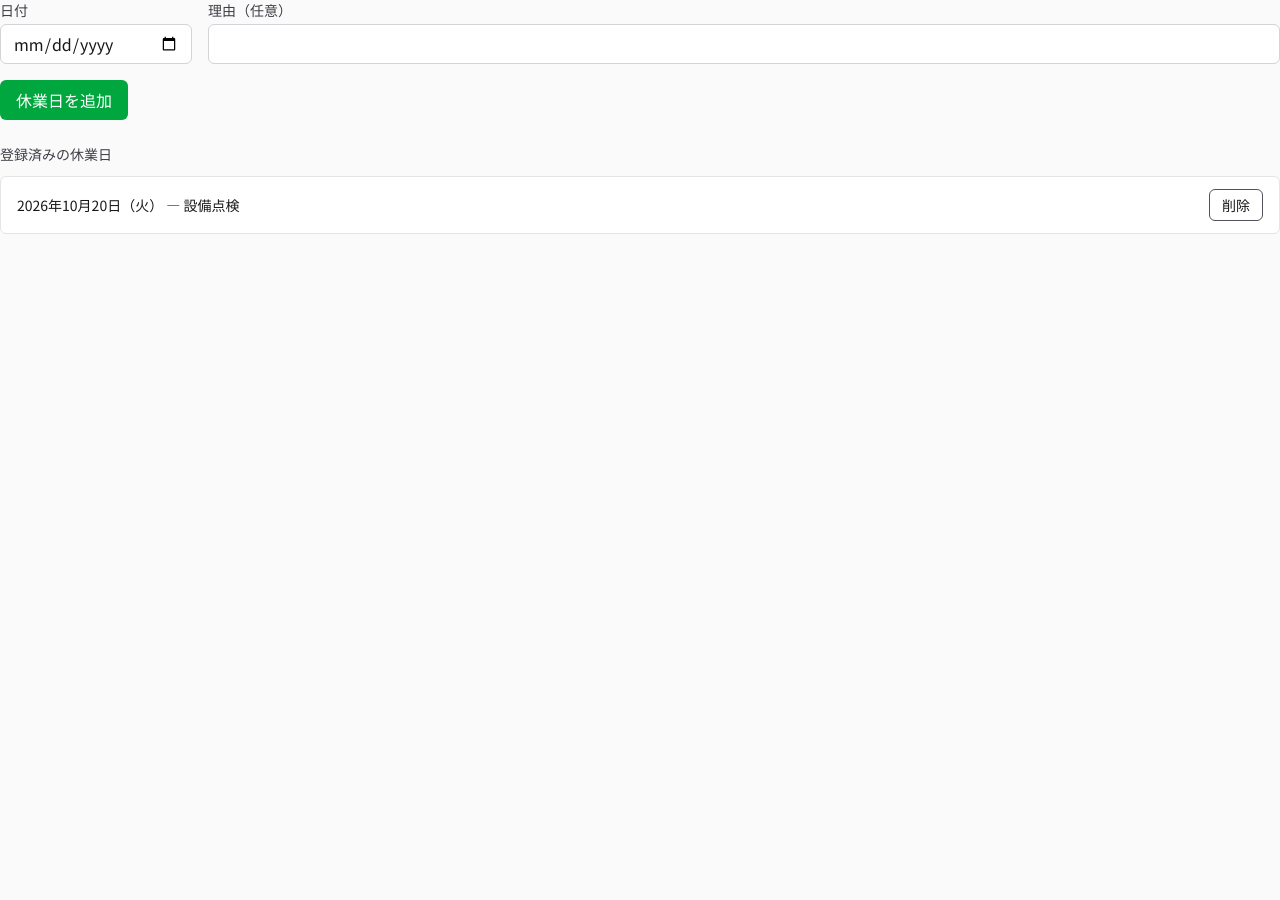
Test: 削除 › 確認してから削除し、一覧から消えて見出しにフォーカスが移る
The width and height of the screenshot is (1280, 900).
Click the button with aria-label "10月20日（火）の休業日を削除" at x=1236, y=205, box [1209,189,1263,221]
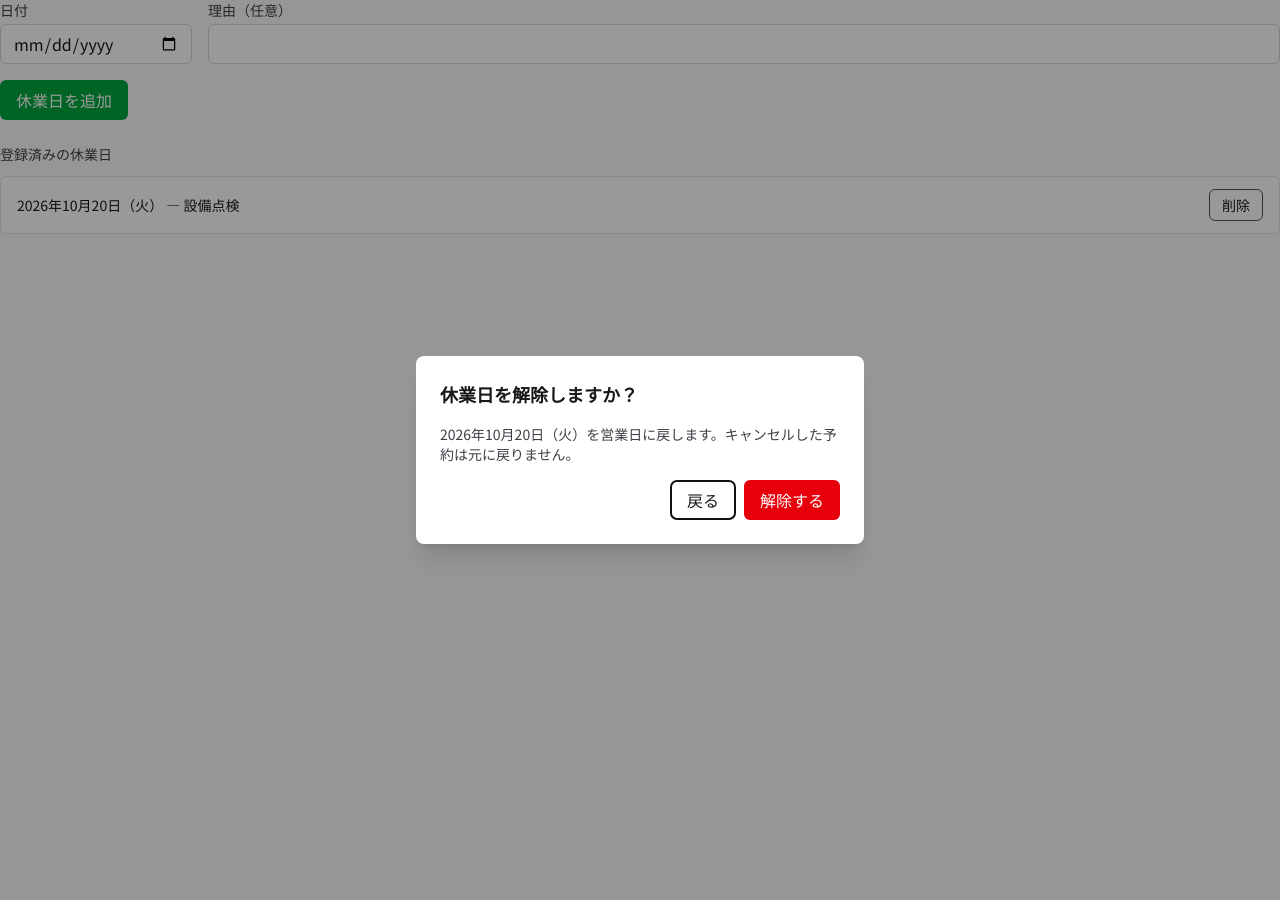
Expected: the dialog "休業日を解除しますか？" shows "キャンセルした予約は元に戻りません", [440,424,837,464]
Click the button "解除する" at x=792, y=500, box [744,480,840,520]
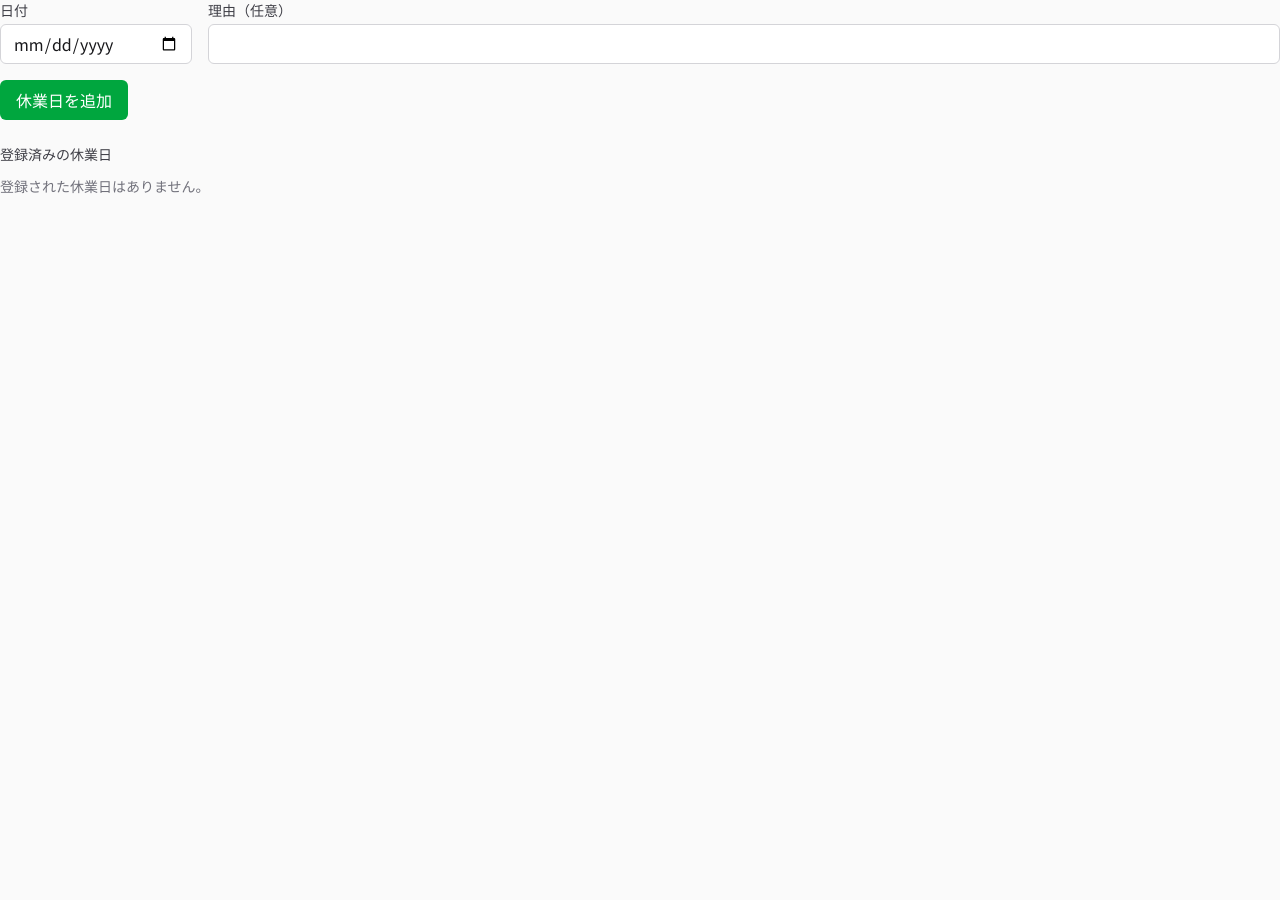
Expected: the text "登録された休業日はありません。" is shown, [0,176,210,196]
